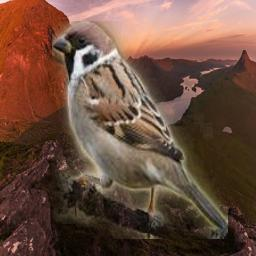Sparrow: (52, 21, 228, 239)
